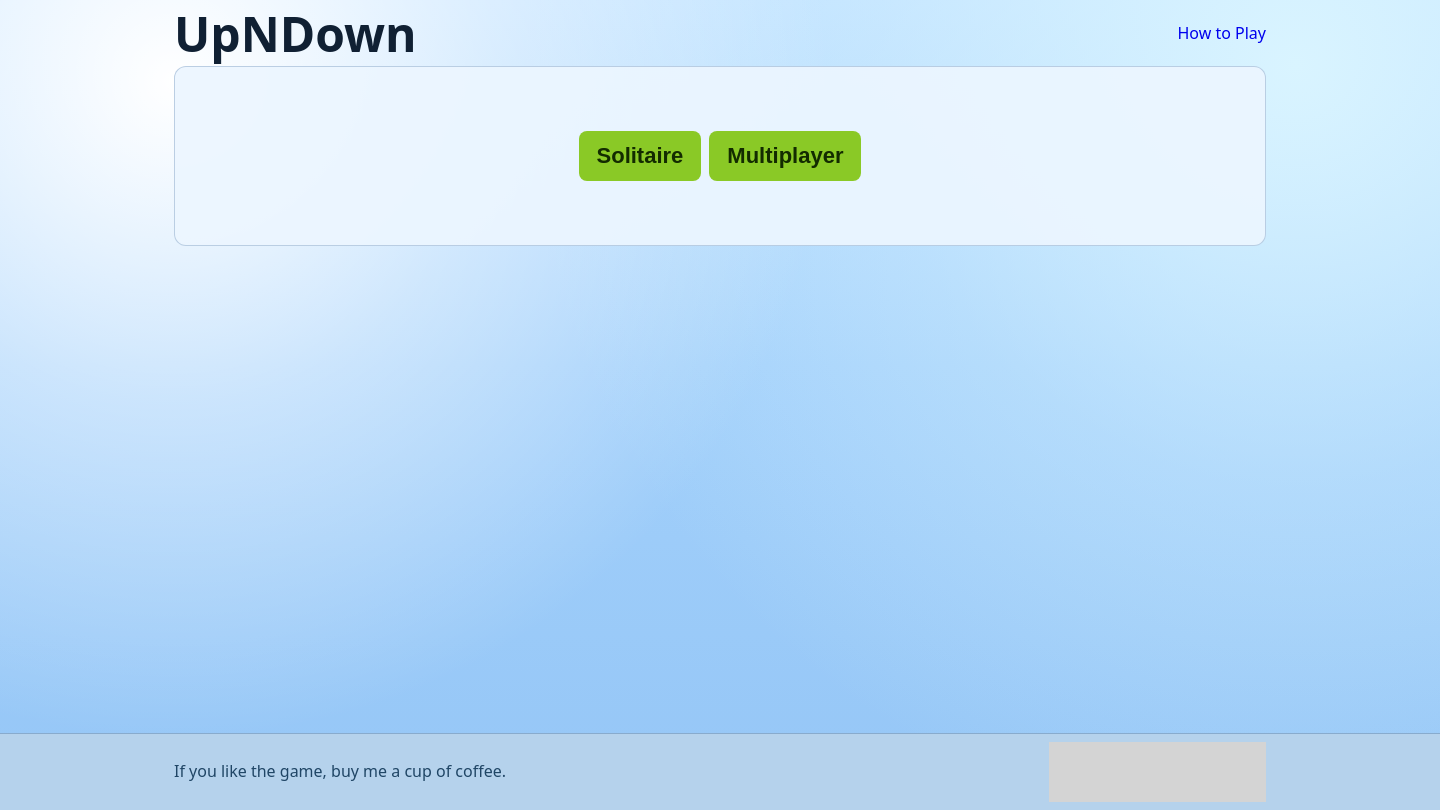
Scenario: solitaire App › plays a selected card to a valid pile and updates top value
The image size is (1440, 810).
Step 1. Click the button with test id "mode-solitaire" → (640, 156), box [578,131,701,181]
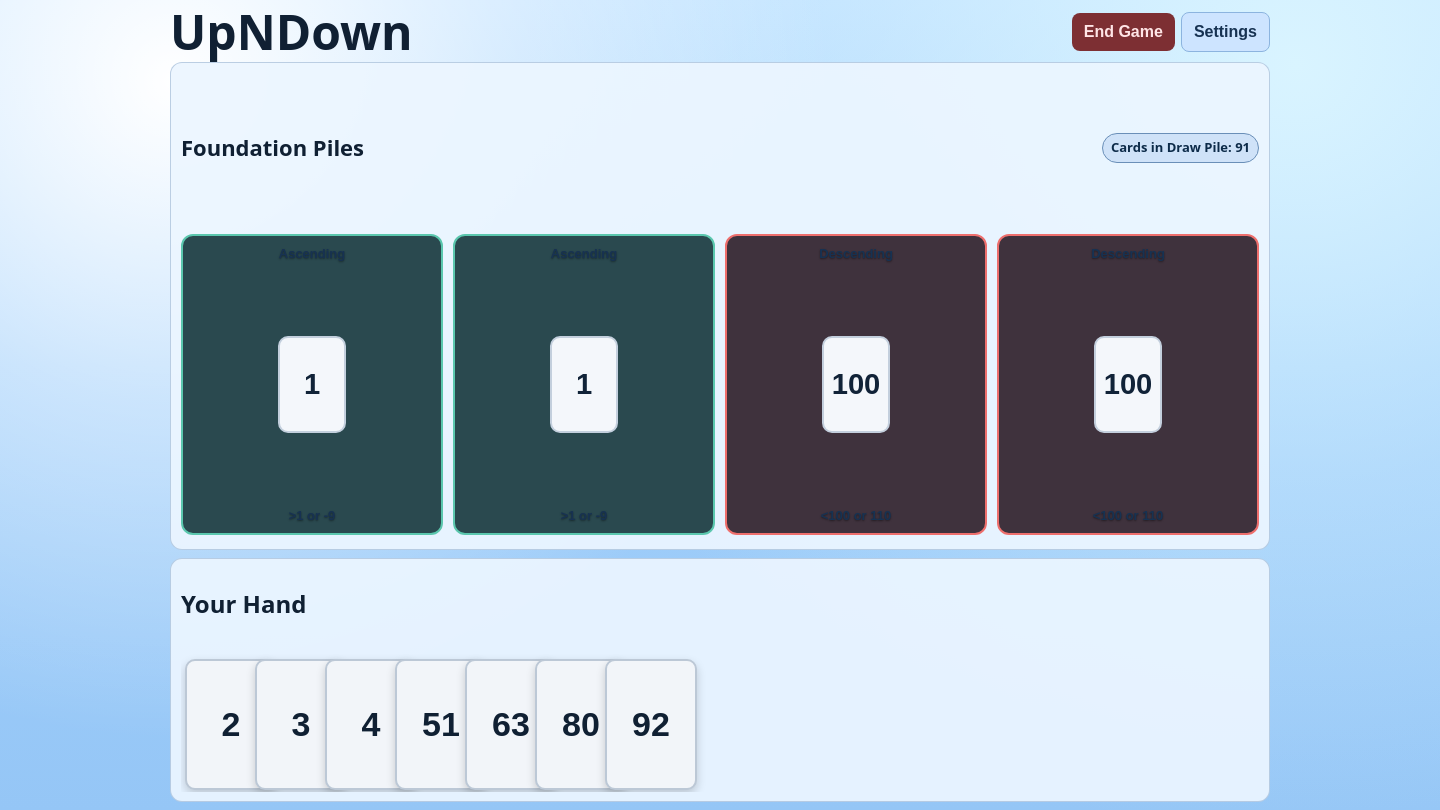
Step 2. Click the button with test id "hand-card-" → (231, 724), box [185,659,277,790]
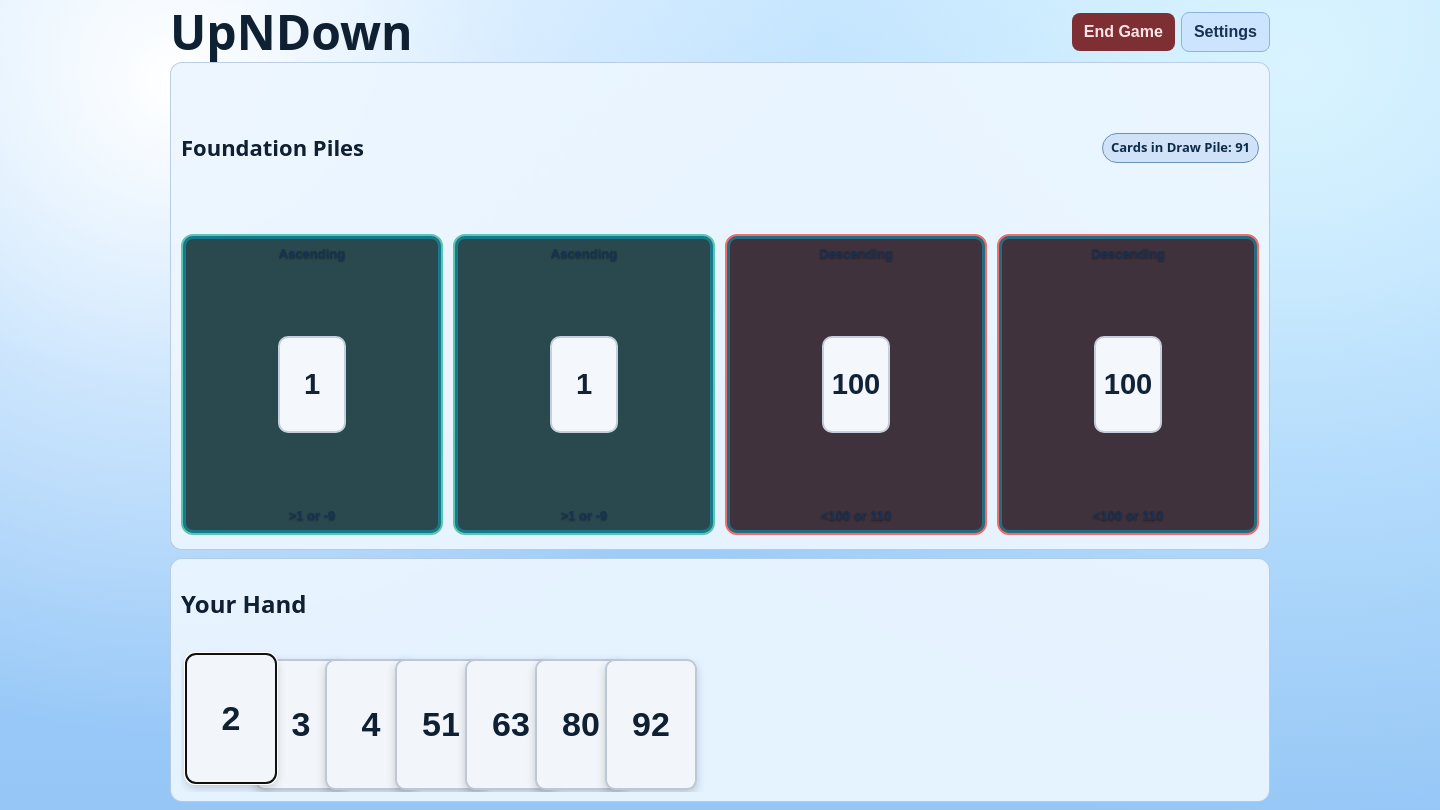
Step 3. Click the button with test id "pile-0" → (312, 384), box [187,240,437,529]
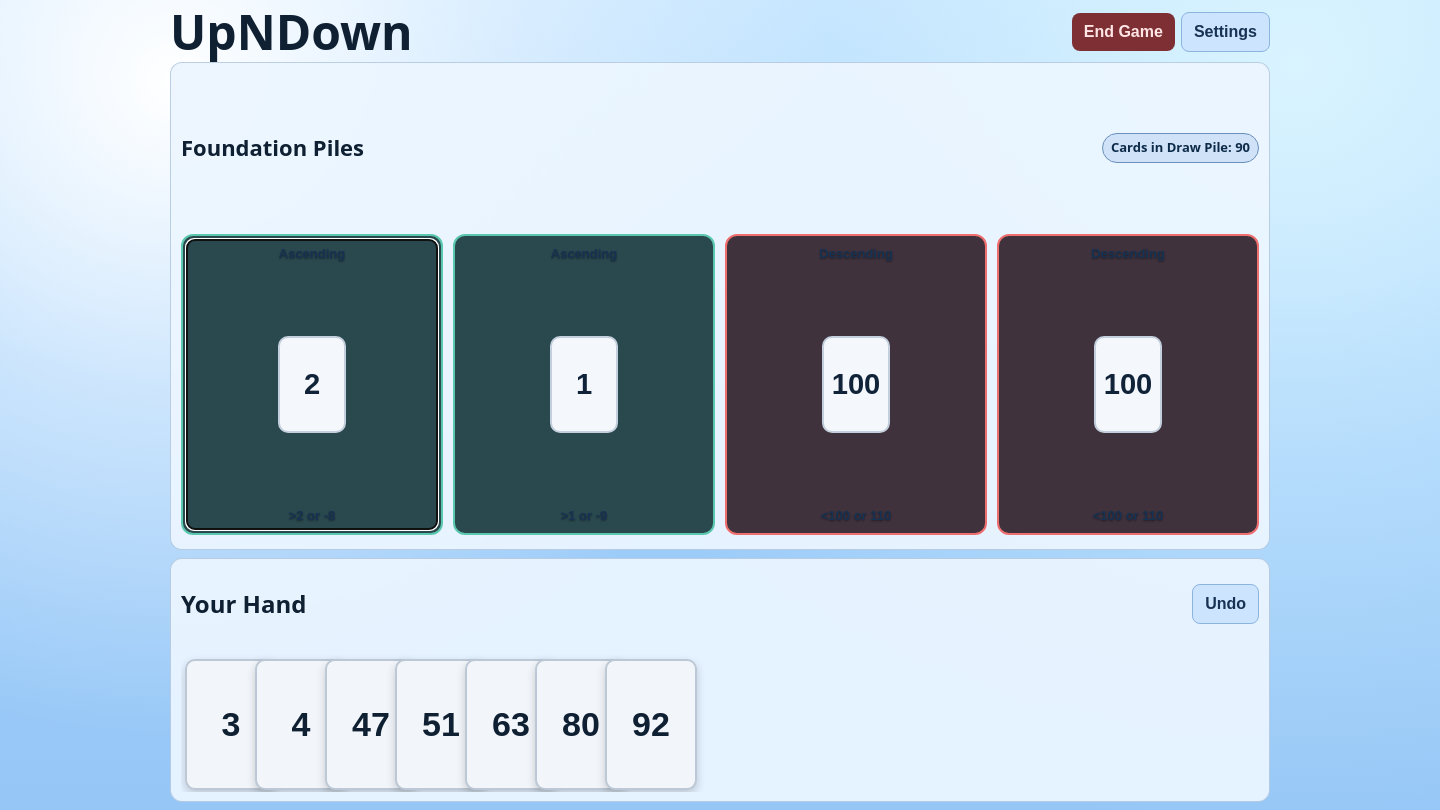
Expected: the text with test id "pile-top-0" reads "2", [304,368,320,400]
